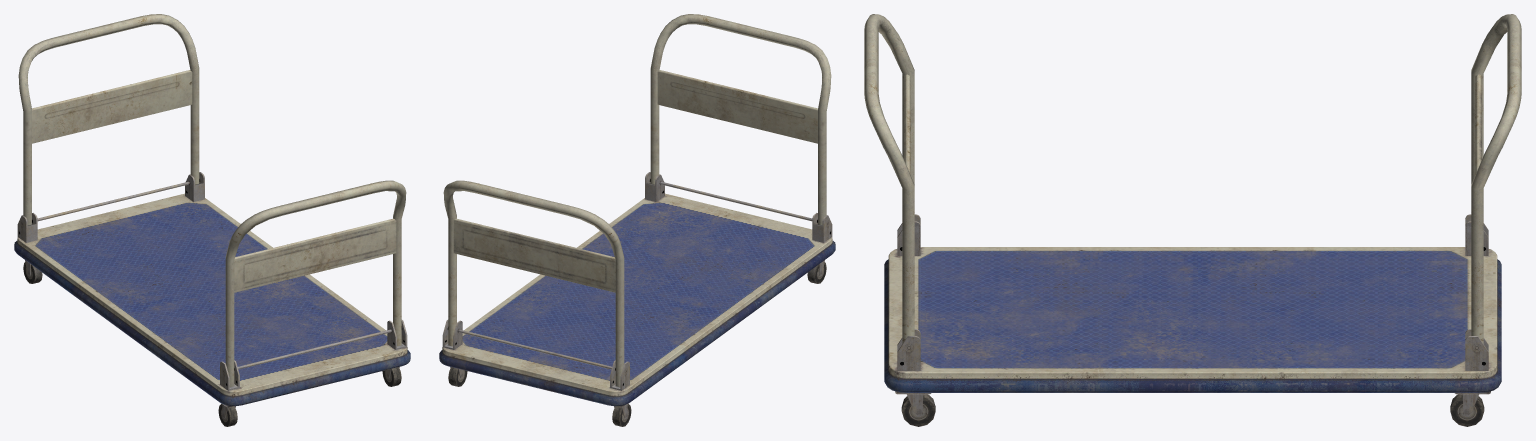
The model's file is 065_HandCart.fbx.
The picture shows the model from 3 angles, left to right: view 1: azimuth 30°, elevation 25°; view 2: azimuth 150°, elevation 25°; view 3: azimuth 270°, elevation 25°; orthographic projection. The views are drawn at different scales.
Visible parts, largest first — view 1: LOD_1_Group_4_Sub_1__sm30_065_HandCart01A_A_Mat, LOD_1_Group_1_Sub_1__sm30_065_HandCart01A_A_Mat, LOD_1_Group_0_Sub_1__sm30_065_HandCart01A_A_Mat, LOD_1_Group_3_Sub_1__sm30_065_HandCart01A_A_Mat, LOD_1_Group_2_Sub_1__sm30_065_HandCart01A_A_Mat, LOD_1_Group_7_Sub_1__sm30_065_HandCart01A_A_Mat; view 2: LOD_1_Group_4_Sub_1__sm30_065_HandCart01A_A_Mat, LOD_1_Group_1_Sub_1__sm30_065_HandCart01A_A_Mat, LOD_1_Group_0_Sub_1__sm30_065_HandCart01A_A_Mat, LOD_1_Group_3_Sub_1__sm30_065_HandCart01A_A_Mat, LOD_1_Group_2_Sub_1__sm30_065_HandCart01A_A_Mat, LOD_1_Group_7_Sub_1__sm30_065_HandCart01A_A_Mat; view 3: LOD_1_Group_4_Sub_1__sm30_065_HandCart01A_A_Mat, LOD_1_Group_0_Sub_1__sm30_065_HandCart01A_A_Mat, LOD_1_Group_3_Sub_1__sm30_065_HandCart01A_A_Mat, LOD_1_Group_7_Sub_1__sm30_065_HandCart01A_A_Mat, LOD_1_Group_1_Sub_1__sm30_065_HandCart01A_A_Mat.
Boxes of the visible parts, box(x1,y1,x2,y2) form: LOD_1_Group_4_Sub_1__sm30_065_HandCart01A_A_Mat: box(14, 193, 410, 406); LOD_1_Group_1_Sub_1__sm30_065_HandCart01A_A_Mat: box(32, 70, 396, 292); LOD_1_Group_0_Sub_1__sm30_065_HandCart01A_A_Mat: box(18, 14, 406, 387); LOD_1_Group_3_Sub_1__sm30_065_HandCart01A_A_Mat: box(17, 172, 407, 390); LOD_1_Group_2_Sub_1__sm30_065_HandCart01A_A_Mat: box(37, 181, 391, 369); LOD_1_Group_7_Sub_1__sm30_065_HandCart01A_A_Mat: box(23, 262, 401, 426); LOD_1_Group_4_Sub_1__sm30_065_HandCart01A_A_Mat: box(439, 193, 835, 406); LOD_1_Group_1_Sub_1__sm30_065_HandCart01A_A_Mat: box(453, 70, 817, 292); LOD_1_Group_0_Sub_1__sm30_065_HandCart01A_A_Mat: box(443, 14, 831, 387); LOD_1_Group_3_Sub_1__sm30_065_HandCart01A_A_Mat: box(442, 172, 832, 390); LOD_1_Group_2_Sub_1__sm30_065_HandCart01A_A_Mat: box(458, 181, 812, 369); LOD_1_Group_7_Sub_1__sm30_065_HandCart01A_A_Mat: box(448, 262, 826, 426); LOD_1_Group_4_Sub_1__sm30_065_HandCart01A_A_Mat: box(884, 247, 1501, 392); LOD_1_Group_0_Sub_1__sm30_065_HandCart01A_A_Mat: box(864, 14, 1521, 343); LOD_1_Group_3_Sub_1__sm30_065_HandCart01A_A_Mat: box(897, 214, 1488, 370); LOD_1_Group_7_Sub_1__sm30_065_HandCart01A_A_Mat: box(901, 394, 1484, 426); LOD_1_Group_1_Sub_1__sm30_065_HandCart01A_A_Mat: box(904, 74, 1481, 175).
Size of the model in its own units: 1.04 by 1.17 by 2.23.
